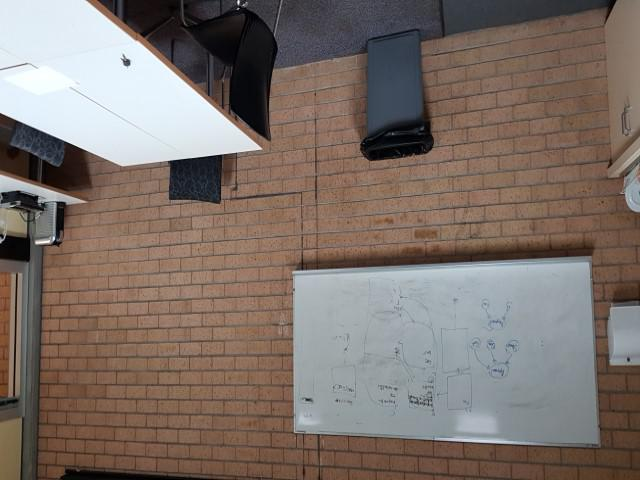key: (120, 52, 132, 68)
